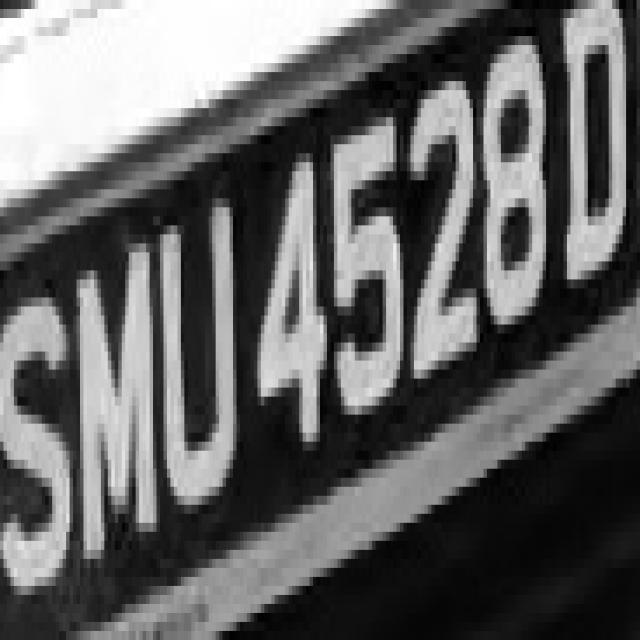2: (393, 90, 490, 397)
4: (240, 153, 334, 478)
5: (316, 99, 418, 460)
8: (470, 27, 553, 361)
D: (560, 9, 633, 306)
M: (70, 234, 164, 577)
S: (7, 270, 76, 640)
U: (157, 180, 240, 541)
